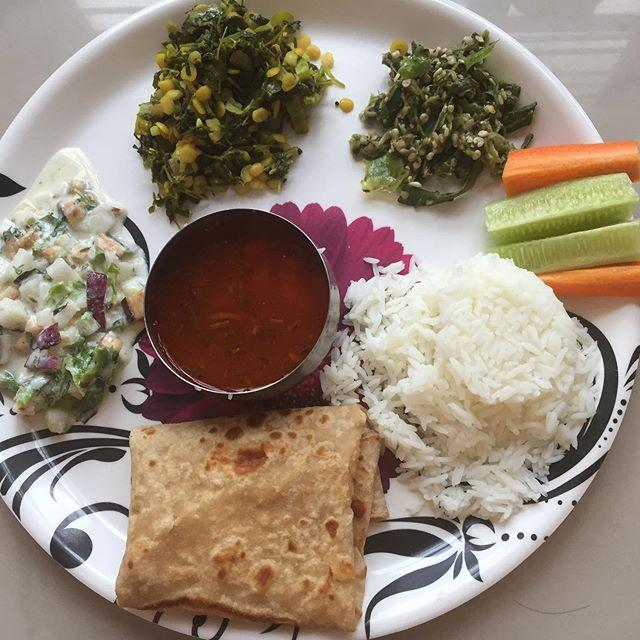Roti: (92, 407, 383, 626)
White Rice: (323, 254, 602, 504)
